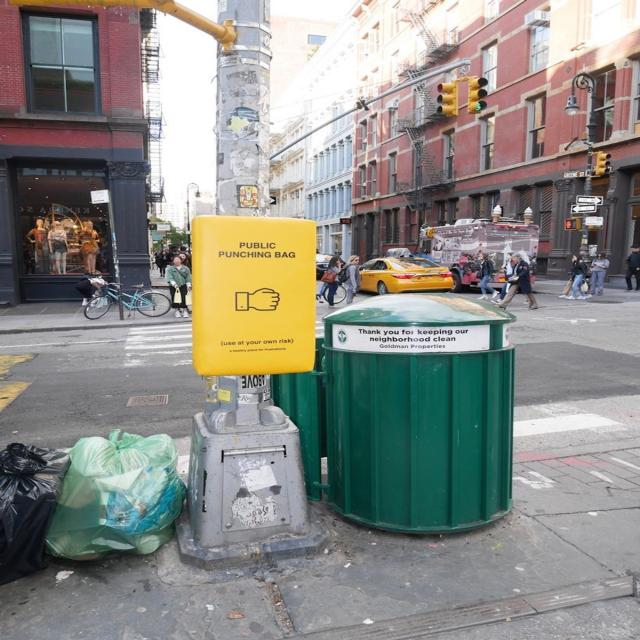garbage: (9, 350, 310, 597)
